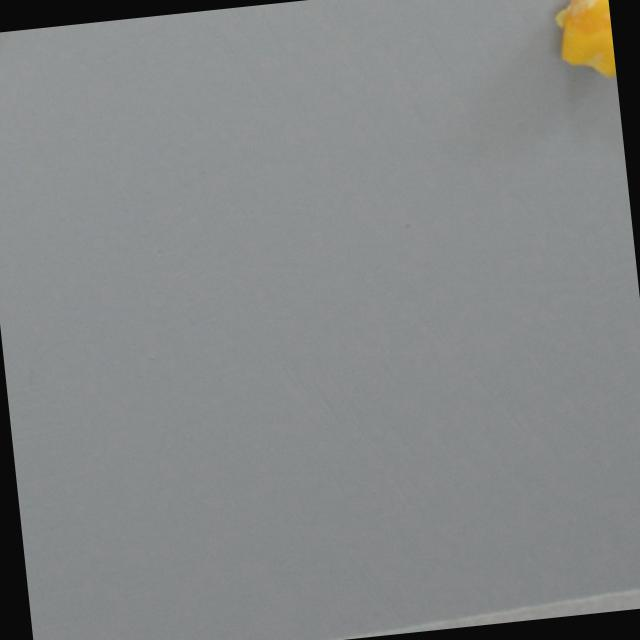pelicula: (550, 0, 616, 85)
